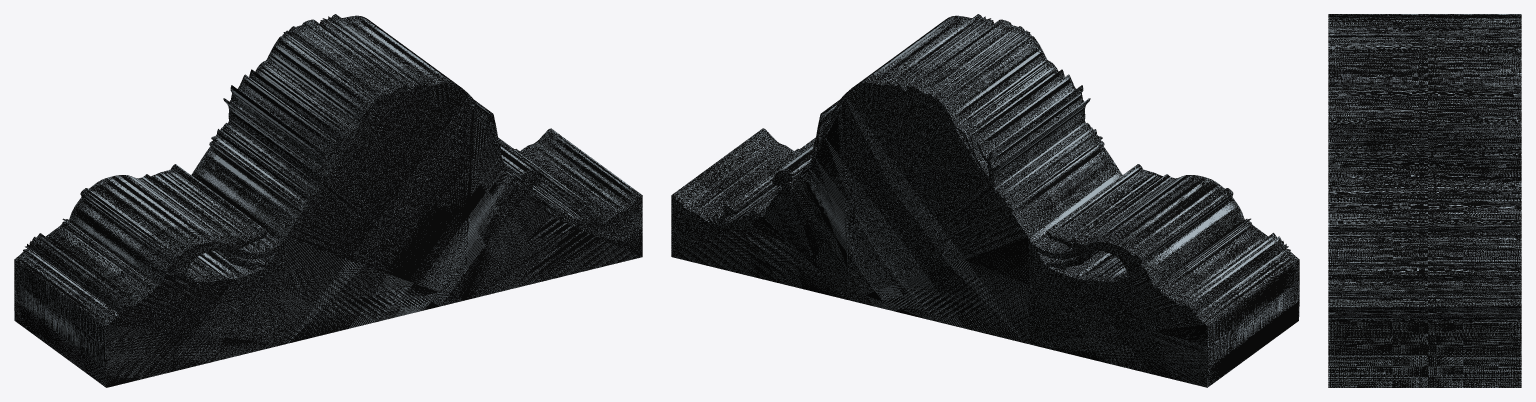
The model's file is back down2.fbx.
The picture shows the model from 3 angles, left to right: view 1: azimuth 30°, elevation 25°; view 2: azimuth 150°, elevation 25°; view 3: azimuth 270°, elevation 25°; orthographic projection. The views are drawn at different scales.
Visible parts, largest first — view 1: Group1; view 2: Group1; view 3: Group1.
Part boxes in pixels (<box>): Group1: <box>14,14,642,387</box>; Group1: <box>671,14,1299,387</box>; Group1: <box>1328,14,1521,387</box>.
Size of the model in its own units: 6772 by 2757 by 2000.
